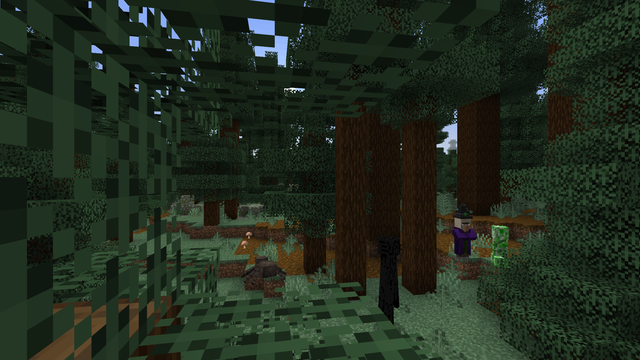araignees: (247, 253, 278, 283)
creepers: (488, 223, 512, 265)
endermens: (376, 233, 402, 333)
sorcieres: (452, 215, 472, 260)
